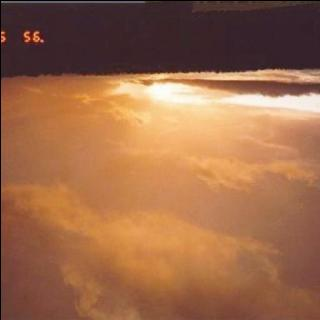Stratus: (0, 73, 320, 320)
